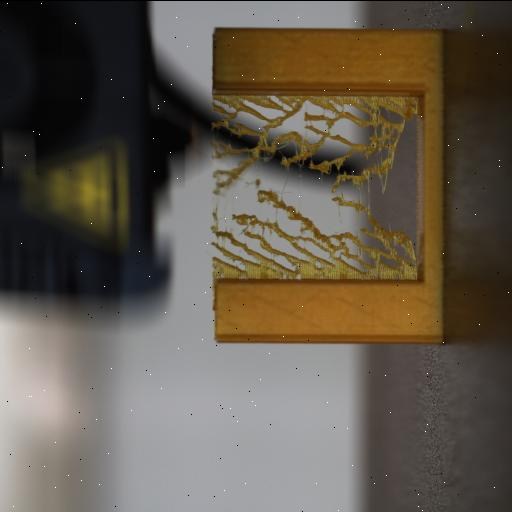stringing: (210, 94, 418, 279)
